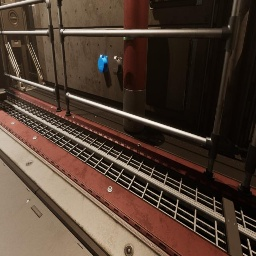NitrogenTank ,: (123, 0, 149, 134)
